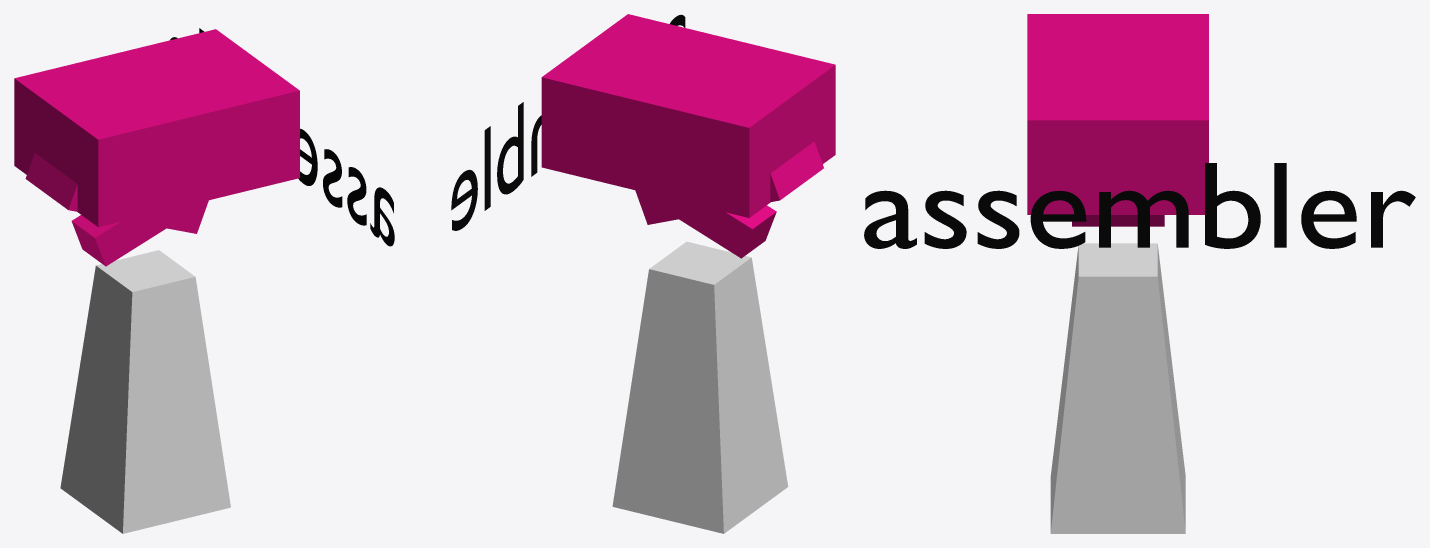
The model's file is Doomer.fbx.
3 views of the same model, side by side, from view 1: azimuth 30°, elevation 25°; view 2: azimuth 150°, elevation 25°; view 3: azimuth 270°, elevation 25° (orthographic). The views are drawn at different scales.
Parts seen in each view (by area): view 1: Cube.001, Cube, Cube.002, Text, Cube.003; view 2: Cube.001, Cube, Cube.002, Text, Cube.003; view 3: Cube.001, Cube, Text, Cube.002.
Part boxes in pixels (x1,y1,x2,y2): Cube.001: (14, 29, 299, 227); Cube: (60, 250, 230, 533); Cube.002: (25, 153, 208, 233); Text: (170, 28, 394, 246); Cube.003: (71, 215, 166, 266); Cube.001: (541, 14, 835, 217); Cube: (612, 241, 788, 533); Cube.002: (635, 141, 823, 224); Text: (451, 14, 685, 230); Cube.003: (679, 205, 776, 258); Cube.001: (1027, 14, 1208, 214); Cube: (1050, 243, 1185, 533); Text: (864, 163, 1415, 248); Cube.002: (1072, 215, 1164, 226).
Bounding box in the file's own units: 108 × 183 × 206.
